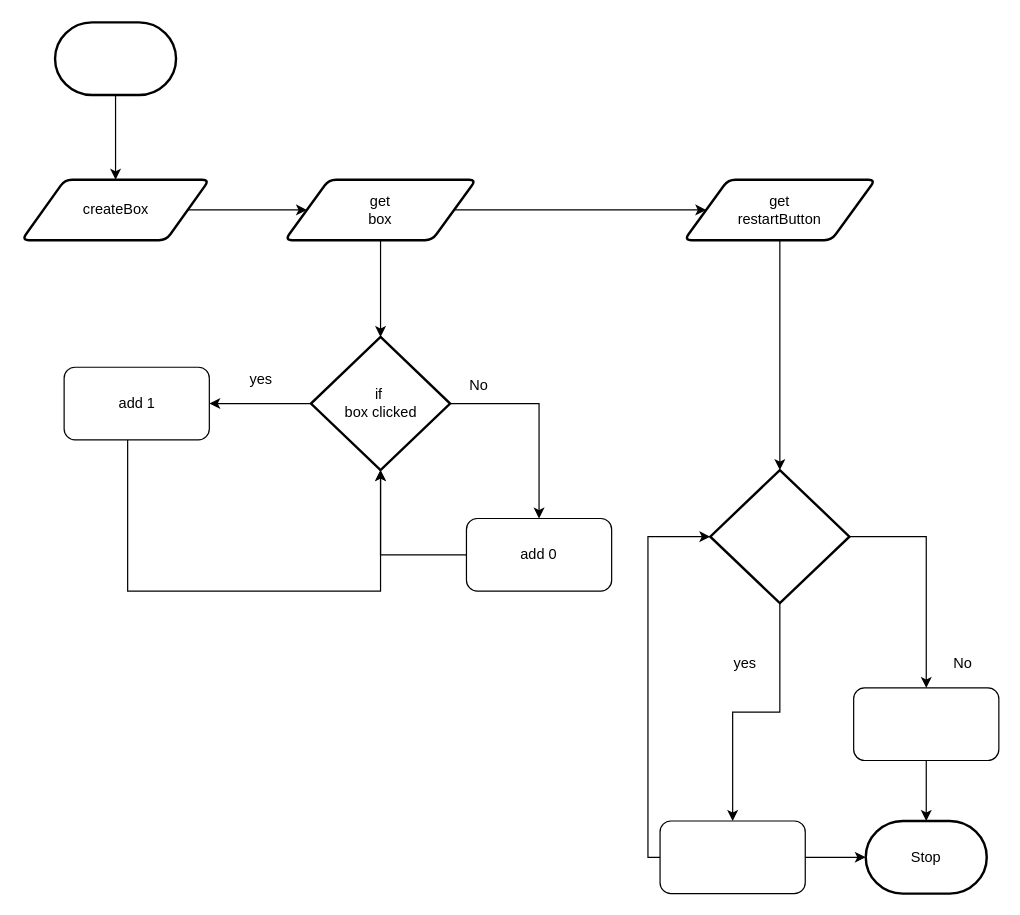
This 1020x915 diagram has some shape labels left out. Here are the shapes that lost their labels. From the top down, the centre of each, then its label:
(115,58): Start
(779,536): if restartButton clicked
(925,723): restart scene
(732,857): continue scene
